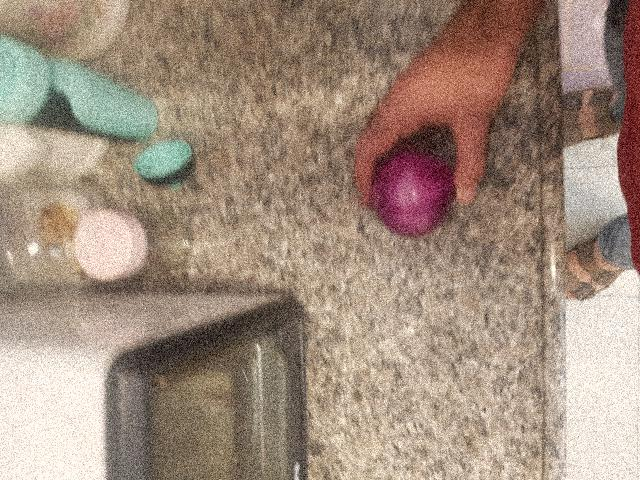onion: (245, 373, 363, 480)
